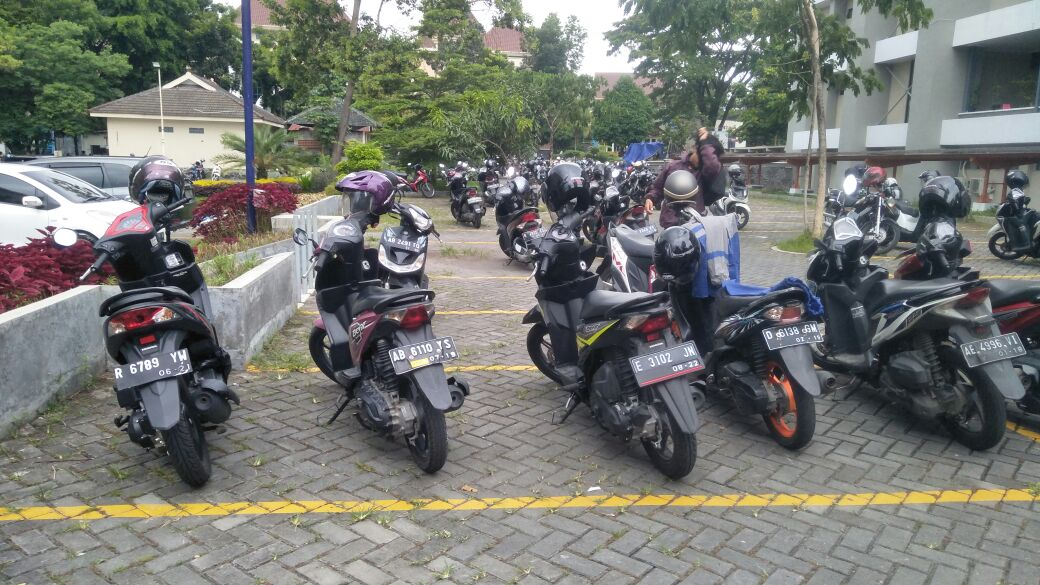plate: (113, 349, 192, 386), (630, 341, 702, 375), (388, 337, 460, 370), (763, 321, 823, 349), (961, 336, 1027, 357), (387, 236, 419, 252), (521, 225, 546, 240), (467, 196, 481, 203)
